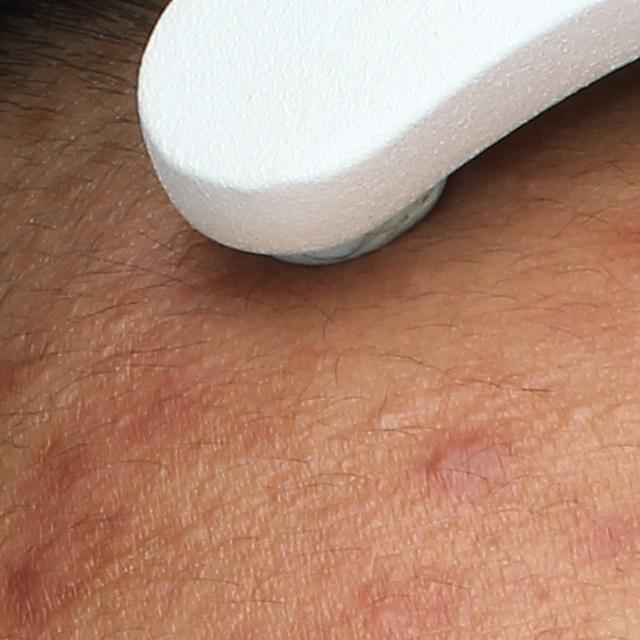atrophic_scar: (2, 515, 131, 625)
comedo: (369, 406, 402, 437), (175, 521, 210, 545), (100, 313, 126, 337), (566, 404, 593, 422), (371, 606, 396, 625)
papule: (429, 437, 480, 480)
